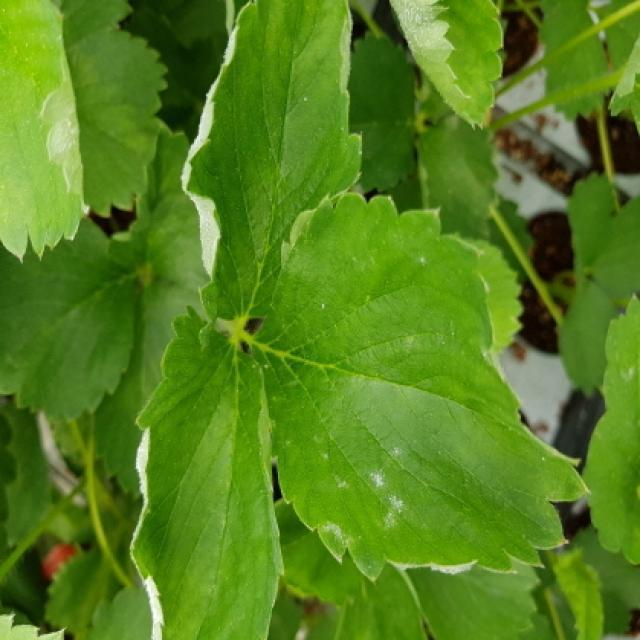powdery_mildew_leaf: (248, 189, 592, 583), (181, 0, 364, 347), (128, 304, 287, 638), (391, 0, 504, 132)
